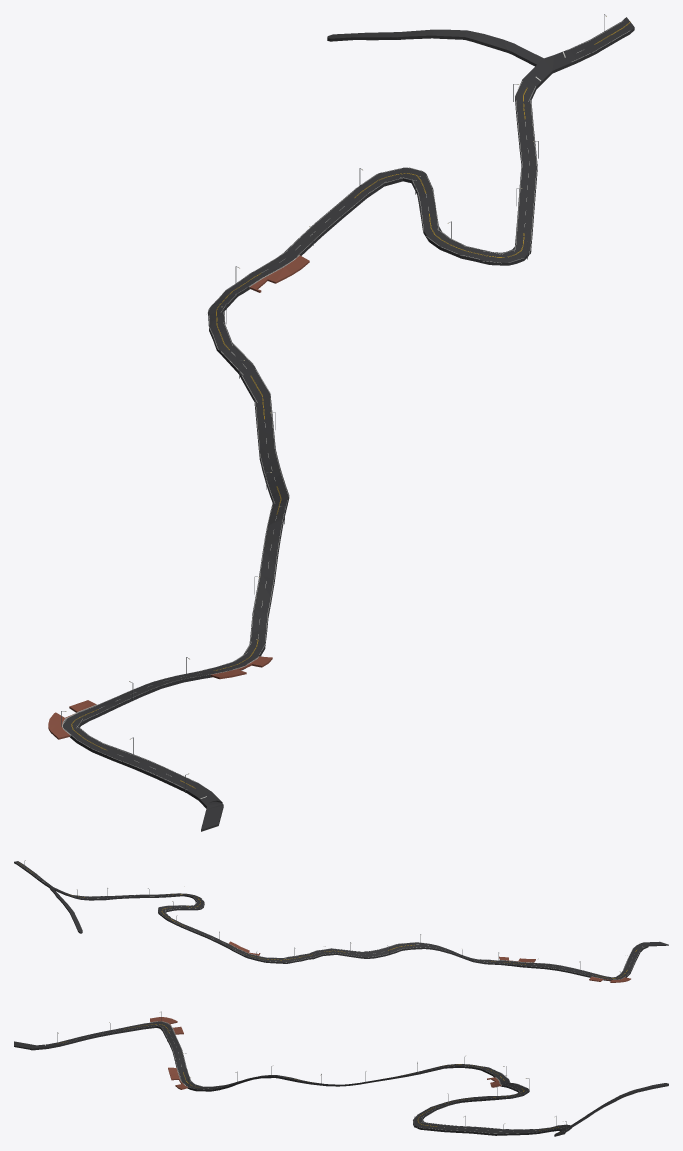
3 views of the same model, one above another, from view 1: azimuth 30°, elevation 25°; view 2: azimuth 150°, elevation 25°; view 3: azimuth 270°, elevation 25° (orthographic). The views are drawn at different scales.
Size of the model in its own units: 398 by 121 by 402.
